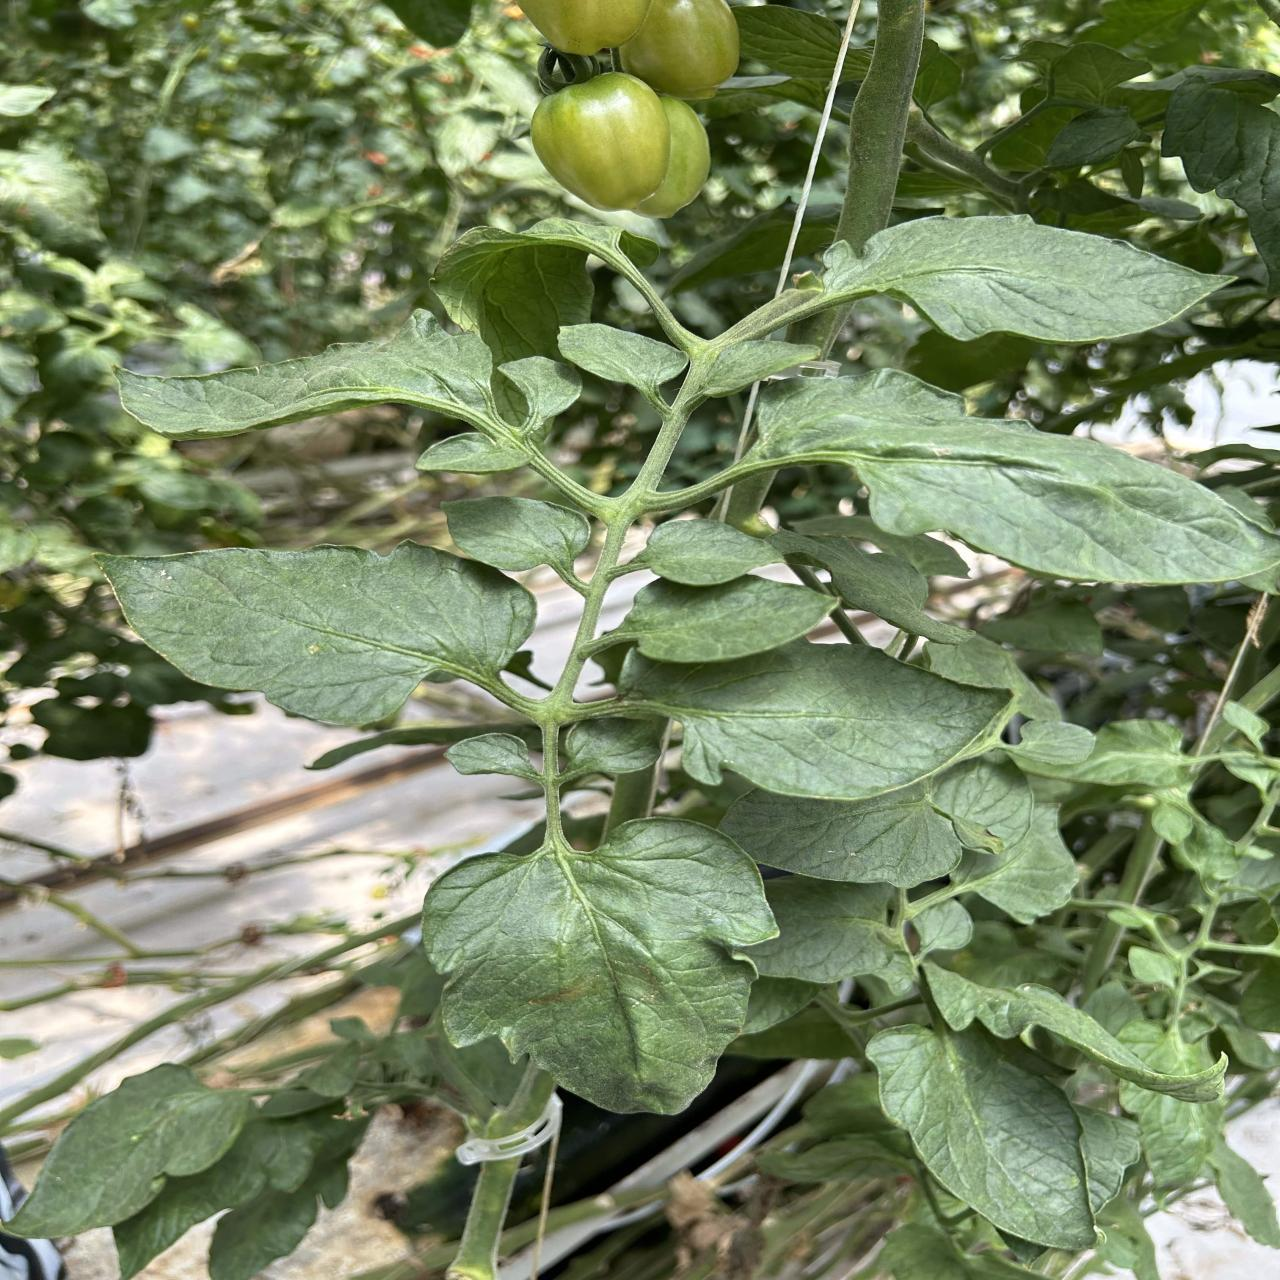Hoja rugoso: (731, 369, 1275, 584), (423, 818, 777, 1114), (100, 543, 536, 726), (118, 311, 581, 468), (618, 638, 1008, 799), (869, 1022, 1138, 1248), (840, 217, 1227, 341), (920, 960, 1227, 1103), (11, 1064, 258, 1237), (117, 1112, 346, 1280), (430, 218, 659, 365), (209, 1119, 367, 1280), (720, 783, 964, 886), (1162, 81, 1280, 288), (768, 529, 971, 644), (1116, 1019, 1227, 1203), (607, 576, 835, 662), (743, 876, 898, 983), (949, 804, 1080, 921), (1013, 720, 1194, 789), (789, 515, 968, 577), (442, 497, 590, 570), (931, 757, 1034, 855), (735, 6, 839, 102), (636, 518, 782, 585), (558, 324, 688, 395), (1016, 41, 1151, 108), (989, 100, 1082, 172), (564, 715, 668, 774), (1046, 108, 1142, 169), (447, 733, 539, 778), (1009, 720, 1095, 768), (913, 38, 961, 109), (911, 898, 973, 951), (844, 47, 871, 80)
Pedunculo: (532, 240, 823, 818), (835, 0, 925, 253), (602, 762, 659, 838), (709, 471, 776, 535), (785, 302, 853, 360)
Tomate Rugoso: (531, 73, 669, 209), (620, 0, 740, 100), (628, 97, 710, 218), (519, 0, 652, 55)
